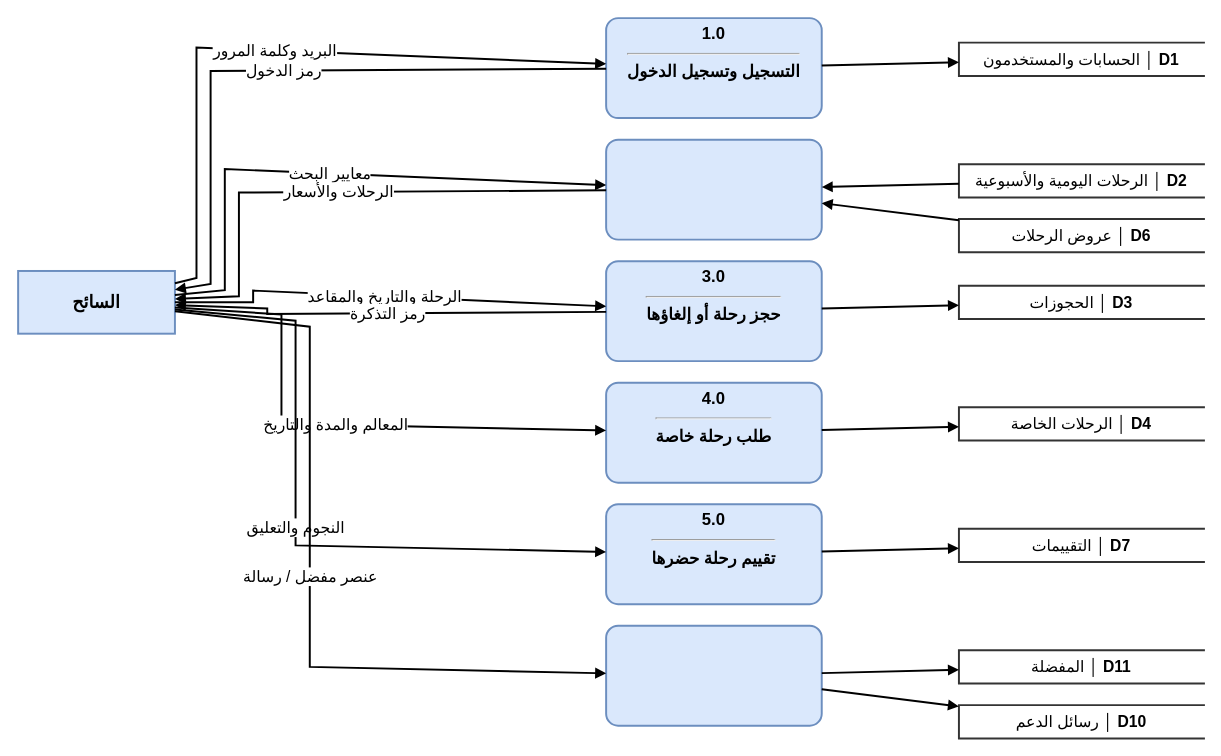
This 1221x756 diagram has some shape labels left out. The shapes that lost their labels are listed below. From the top down, each one's box as (x1, y1, x2, y2) in pixels, then its label:
(605, 138, 822, 240): 2.0 تصفح الرحلات والعروض
(605, 624, 822, 726): 6.0 المفضلة والدعم
